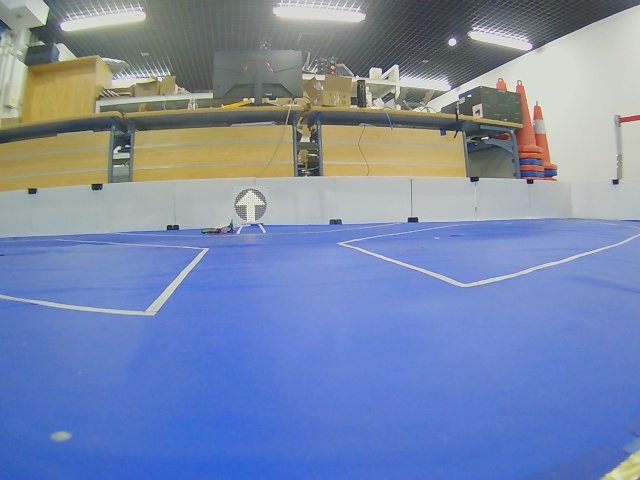straight_yellow: (234, 188, 266, 223)
